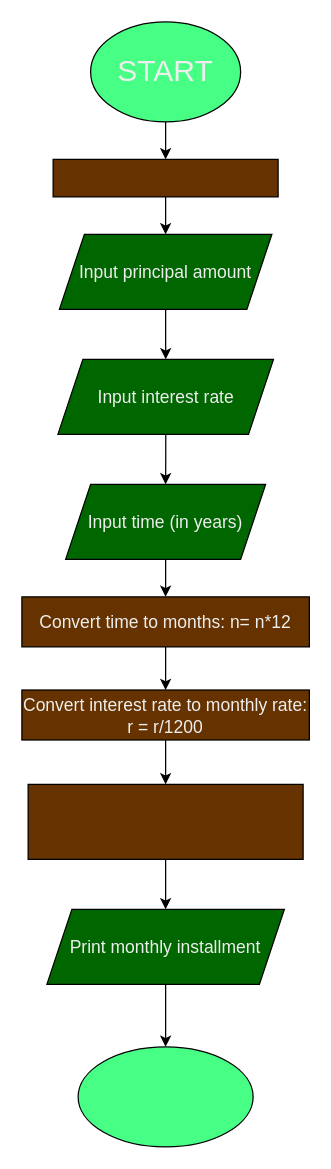
The diagram is 331 pixels wide and 1169 high, and some of its shapes have lost their labels. Each missing label, with the box of its shape:
Calculate EMI: E = (P*r*(1+r)^n)/((1+r)^n-1): (27, 783, 303, 859)
Declare variables: P, r, n & E: (52, 158, 278, 197)
END: (77, 1046, 253, 1147)
